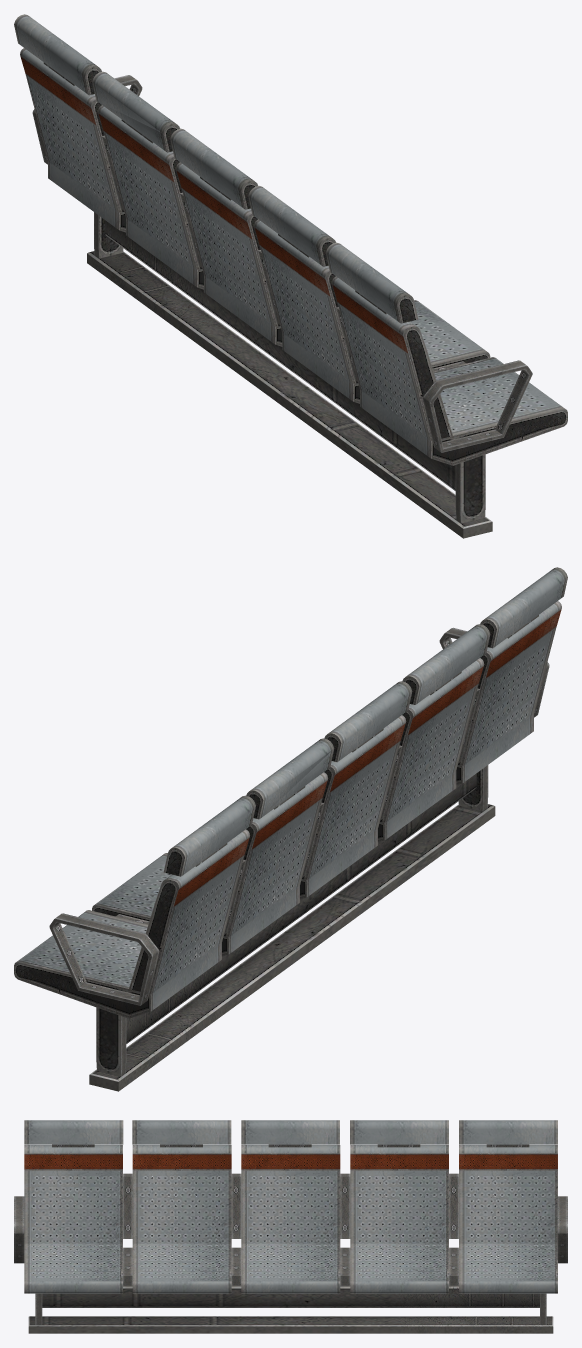
The model's file is Bench_02.FBX.
3 renders of one model, top to bottom at view 1: azimuth 30°, elevation 25°; view 2: azimuth 150°, elevation 25°; view 3: azimuth 270°, elevation 25°, orthographic. The views are drawn at different scales.
Visible parts, largest first — view 1: Bench_02; view 2: Bench_02; view 3: Bench_02.
Boxes of the visible parts, <box> form: Bench_02: <box>14,14,567,538</box>; Bench_02: <box>14,567,567,1091</box>; Bench_02: <box>14,1120,567,1333</box>.
Bounding box in the file's own units: 0.6329 × 0.9218 × 2.55.
